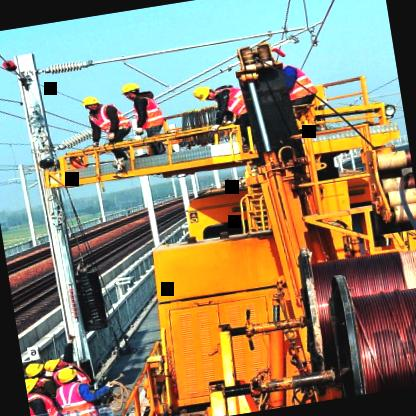helmet: (188, 80, 223, 105), (118, 76, 144, 102), (54, 366, 84, 388), (24, 373, 47, 395), (22, 360, 46, 380), (42, 355, 70, 372), (79, 93, 103, 111)
